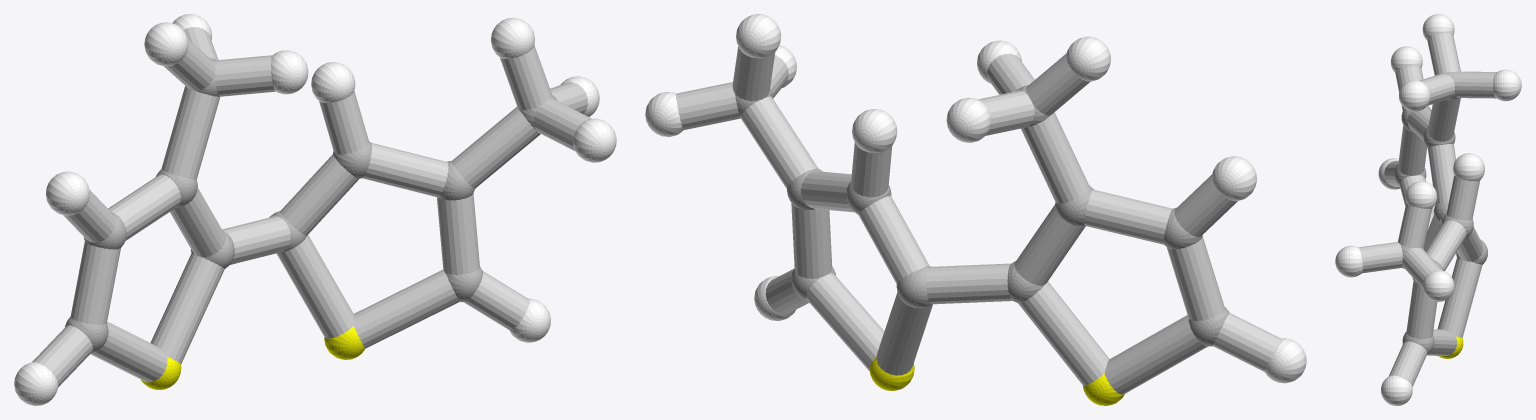
Rendered from Methylthiophene_Phi_40_Theta_180_Methylthiophene.glb.
3 renders of one model, left to right at view 1: azimuth 30°, elevation 25°; view 2: azimuth 150°, elevation 25°; view 3: azimuth 270°, elevation 25°, orthographic. The views are drawn at different scales.
Parts seen in each view (by area): view 1: grp7965, grp3621, grp1, grp7241; view 2: grp7965, grp3621, grp1, grp7241; view 3: grp7965, grp3621, grp1, grp7241.
Part boxes in pixels (x1,y1,x2,y2): grp7965: [32, 27, 591, 387]; grp3621: [14, 14, 616, 405]; grp1: [65, 58, 557, 352]; grp7241: [140, 326, 364, 389]; grp7965: [676, 46, 1281, 394]; grp3621: [645, 14, 1306, 383]; grp1: [735, 85, 1229, 346]; grp7241: [869, 356, 1124, 405]; grp7965: [1359, 33, 1496, 386]; grp3621: [1335, 14, 1521, 405]; grp1: [1394, 71, 1487, 354]; grp7241: [1438, 336, 1463, 358].
Bounding box in the file's own units: 9.54 × 5.73 × 3.5.
